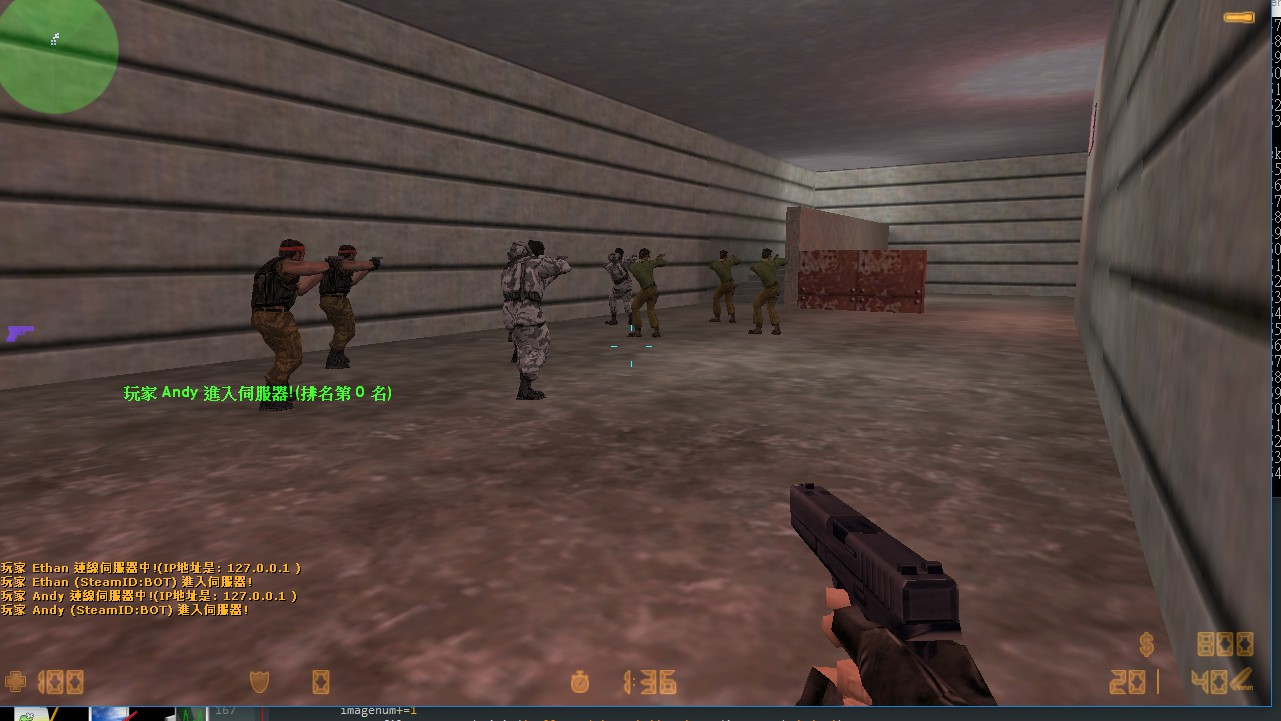person: (239, 230, 307, 417), (498, 225, 564, 405), (313, 236, 373, 381), (631, 242, 662, 345), (603, 242, 638, 327), (751, 247, 779, 336), (713, 244, 740, 328)
